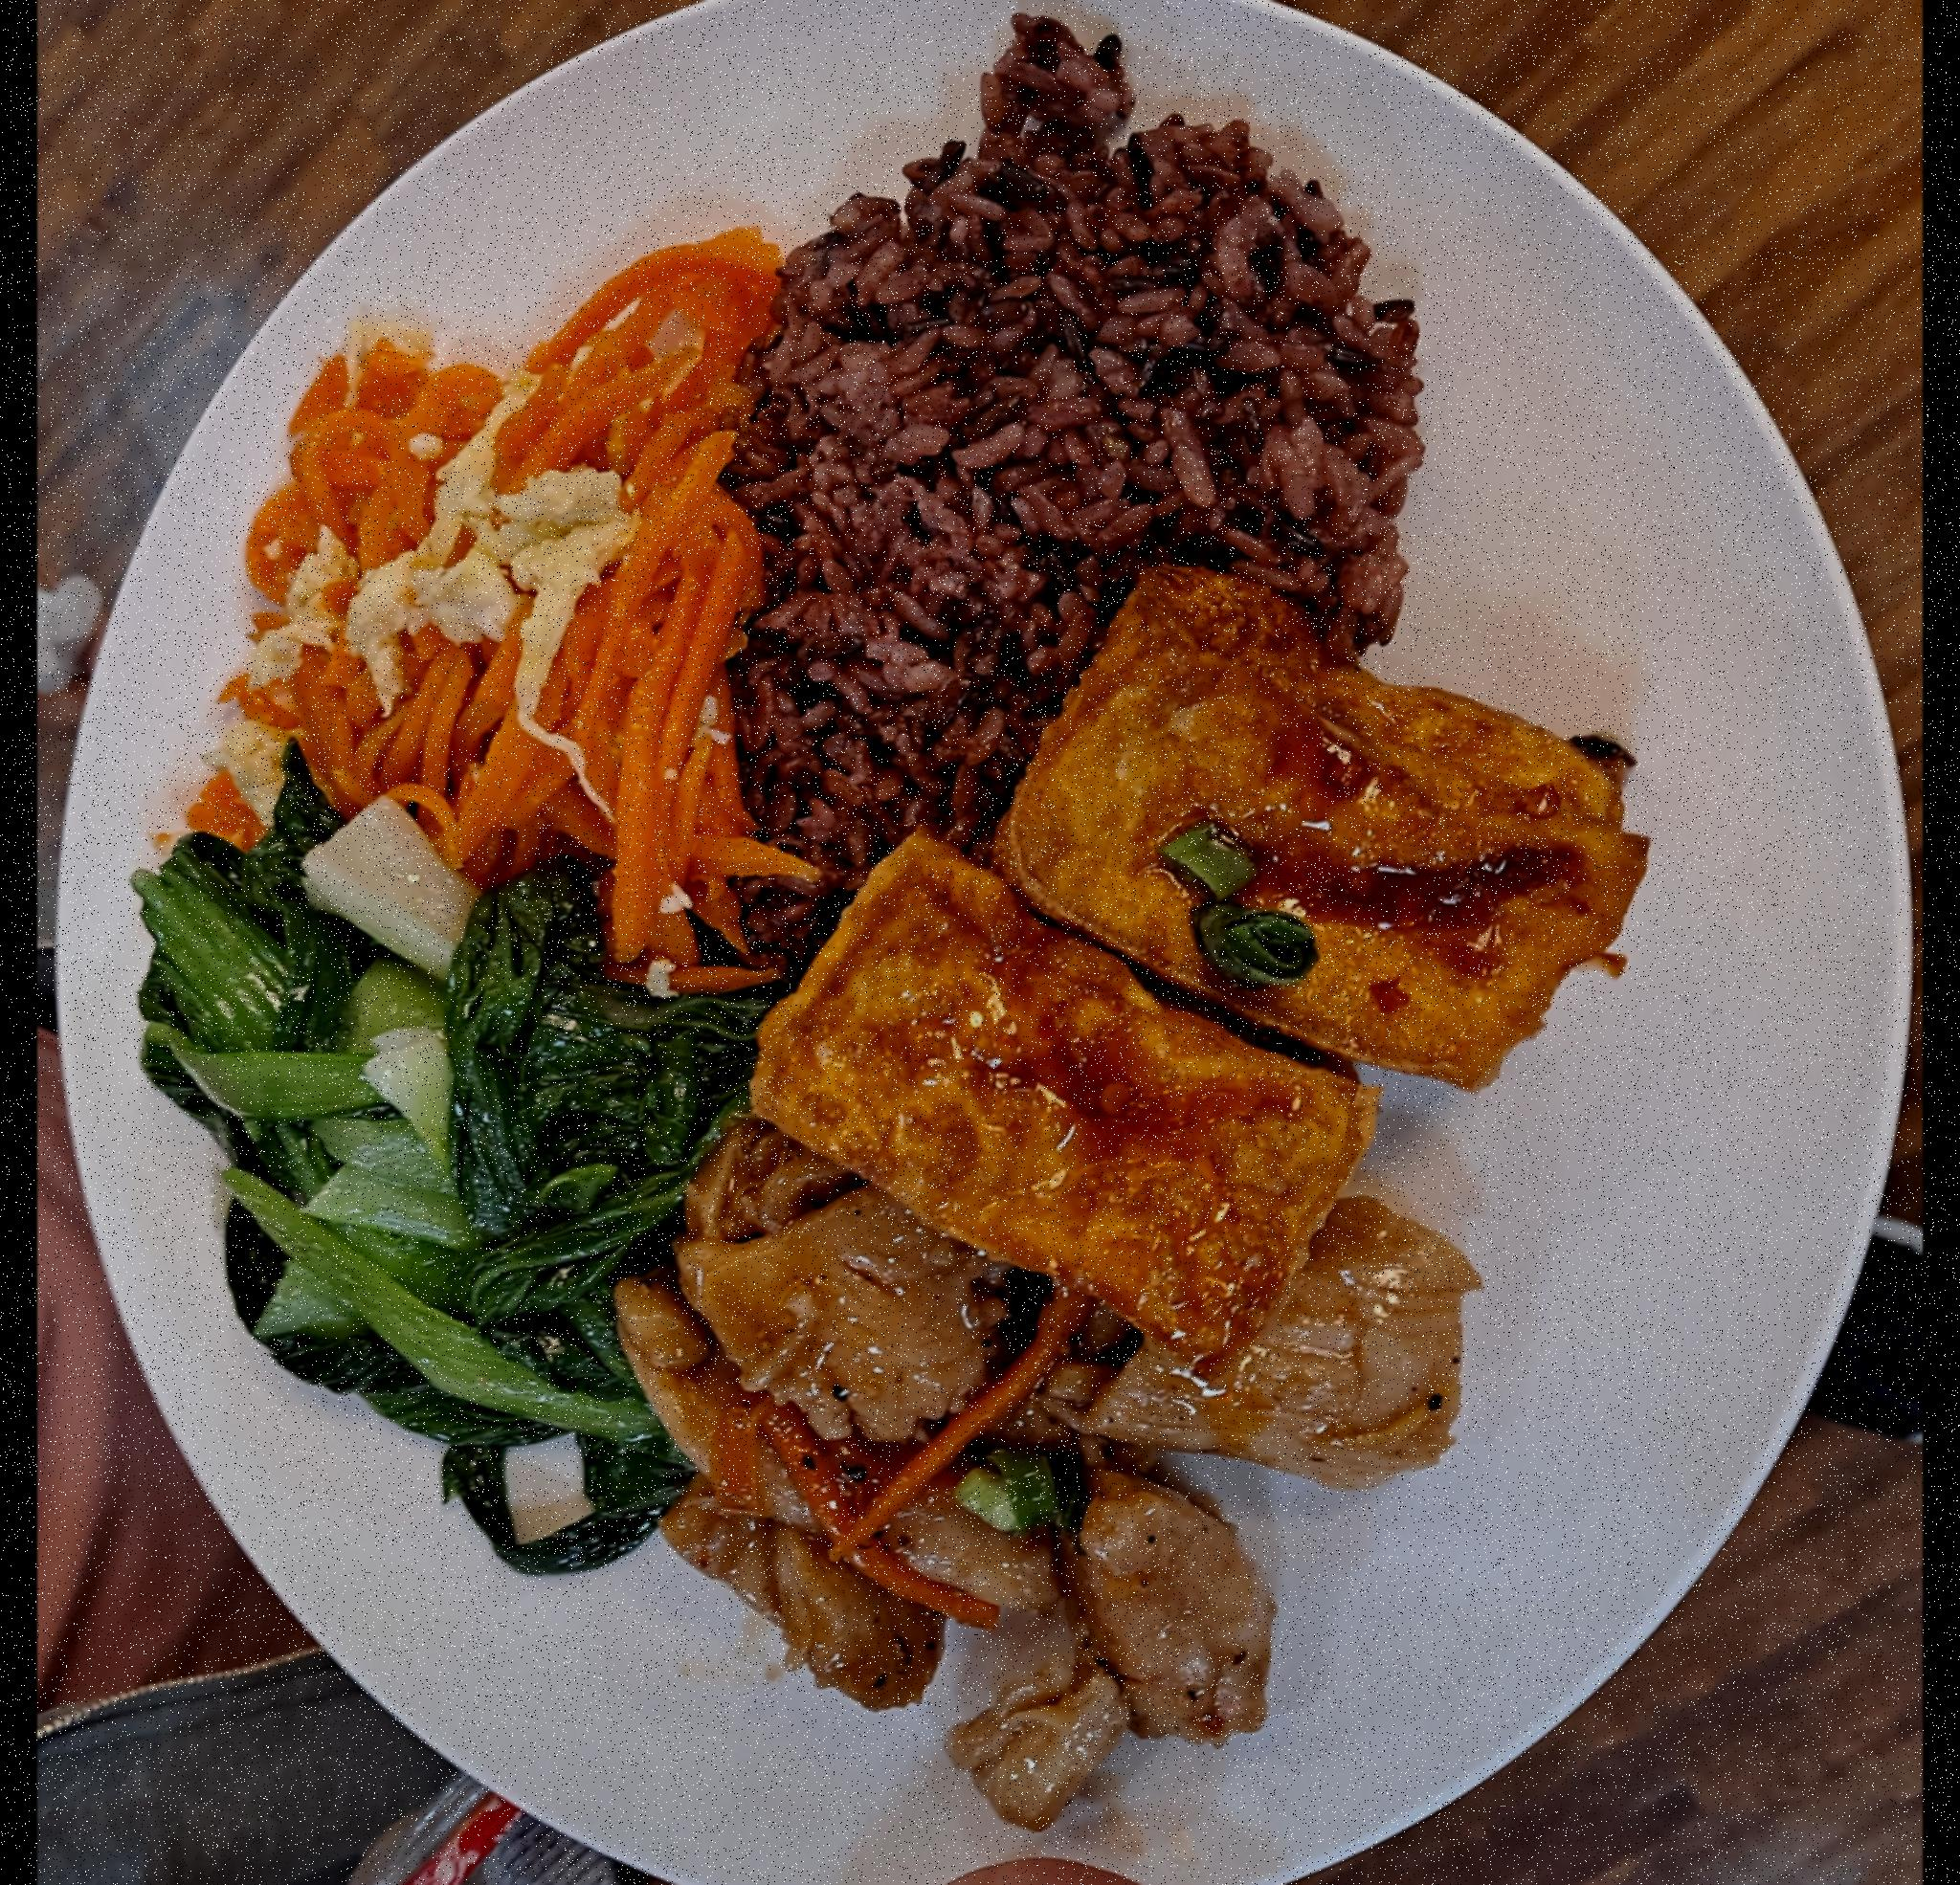big fried chicken leg: (45, 0, 1912, 1885)
braised fish: (731, 17, 1426, 936)
braised fish fillet: (733, 582, 1654, 1368), (119, 810, 735, 1574), (172, 229, 796, 947)
braised pork: (612, 1148, 1482, 1824)
